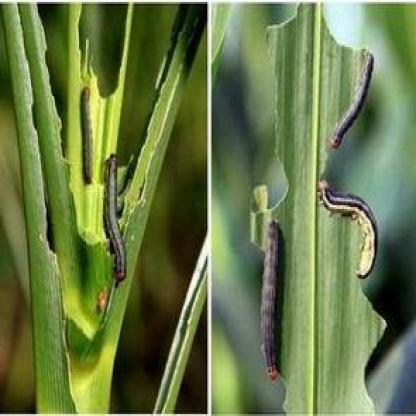armyworm: (317, 177, 382, 280), (260, 211, 294, 381), (328, 50, 373, 149), (105, 150, 131, 288), (79, 80, 97, 189)
